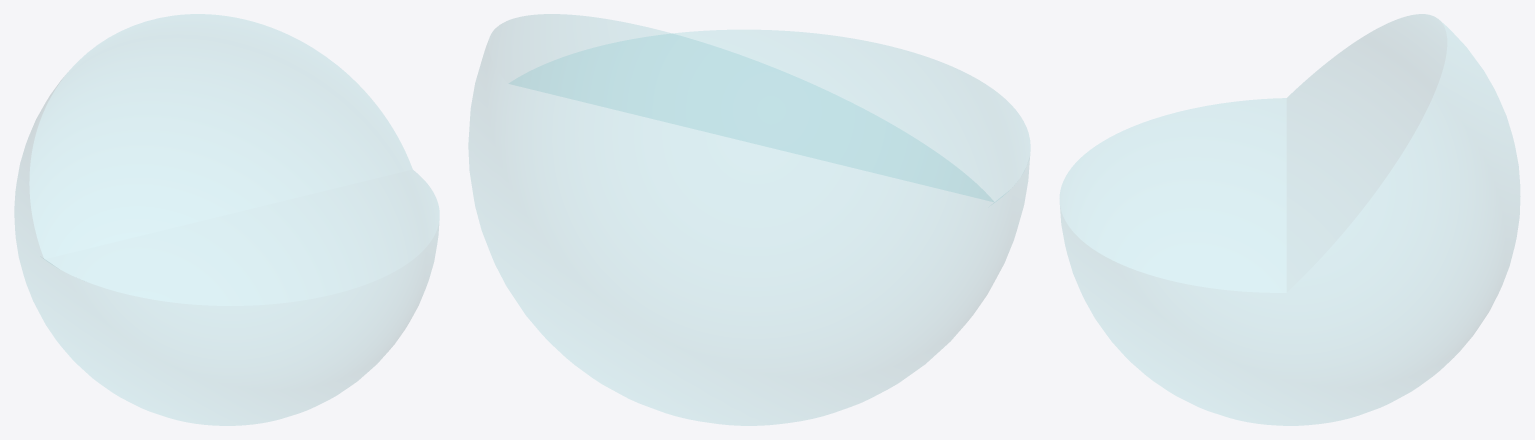
The model's file is citoplasma.glb.
3 views of the same model, side by side, from view 1: azimuth 30°, elevation 25°; view 2: azimuth 150°, elevation 25°; view 3: azimuth 270°, elevation 25° (orthographic). The views are drawn at different scales.
Parts seen in each view (by area): view 1: Object_116; view 2: Object_116; view 3: Object_116.
Part boxes in pixels (bbox=[...]): Object_116: bbox=[15, 14, 438, 425]; Object_116: bbox=[469, 14, 1029, 425]; Object_116: bbox=[1060, 14, 1519, 425].
Size of the model in its own units: 30.42 by 26.33 by 30.4.
